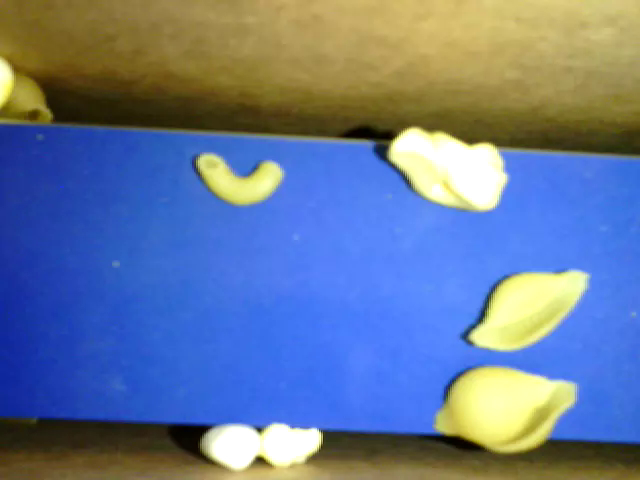elbow: (194, 151, 286, 207)
shell: (430, 365, 579, 455), (464, 266, 591, 352), (1, 69, 53, 128)
